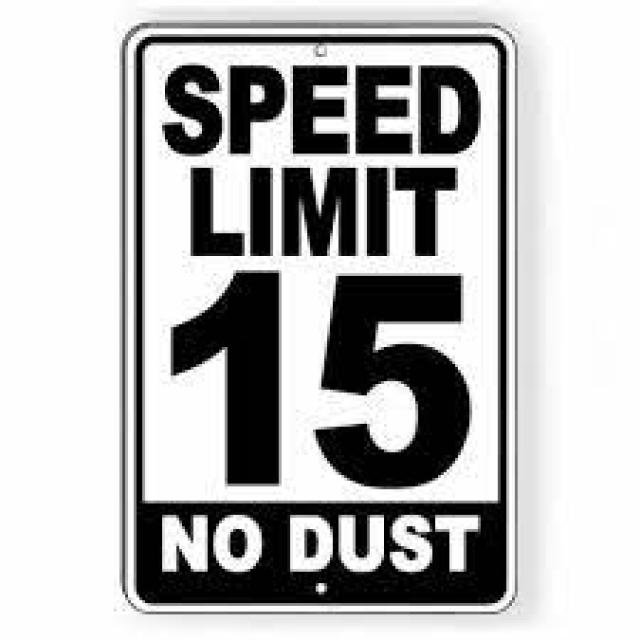speedLimit15: (132, 32, 505, 508)
